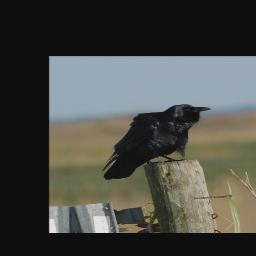Crow: (90, 102, 222, 182)
